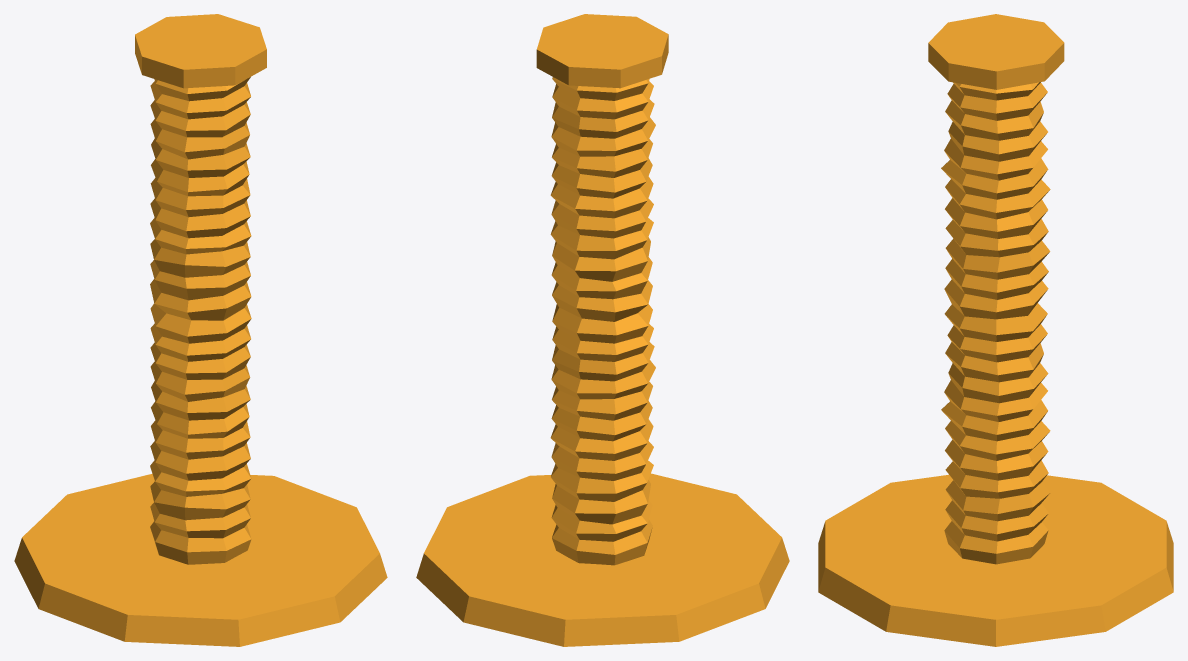
File: SM_Scratcher_Pole_A.fbx
3 renders of one model, left to right at view 1: azimuth 30°, elevation 25°; view 2: azimuth 150°, elevation 25°; view 3: azimuth 270°, elevation 25°, orthographic.
Parts seen in each view (by area): view 1: SM_Scratcher_Pole_A; view 2: SM_Scratcher_Pole_A; view 3: SM_Scratcher_Pole_A.
Boxes of the visible parts, x1,y1,x2,y2 form: SM_Scratcher_Pole_A: [14, 14, 387, 646]; SM_Scratcher_Pole_A: [416, 14, 789, 646]; SM_Scratcher_Pole_A: [818, 14, 1173, 646].
Bounding box in the file's own units: 0.3414 × 0.5293 × 0.3247.
